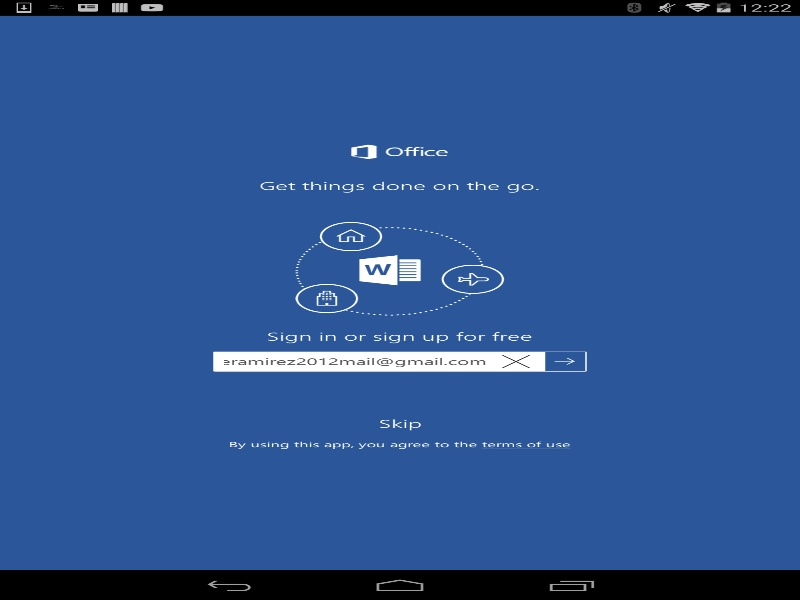Button: (357, 413, 442, 434), (496, 352, 536, 370), (545, 352, 585, 370)
Input: (213, 351, 496, 371)
